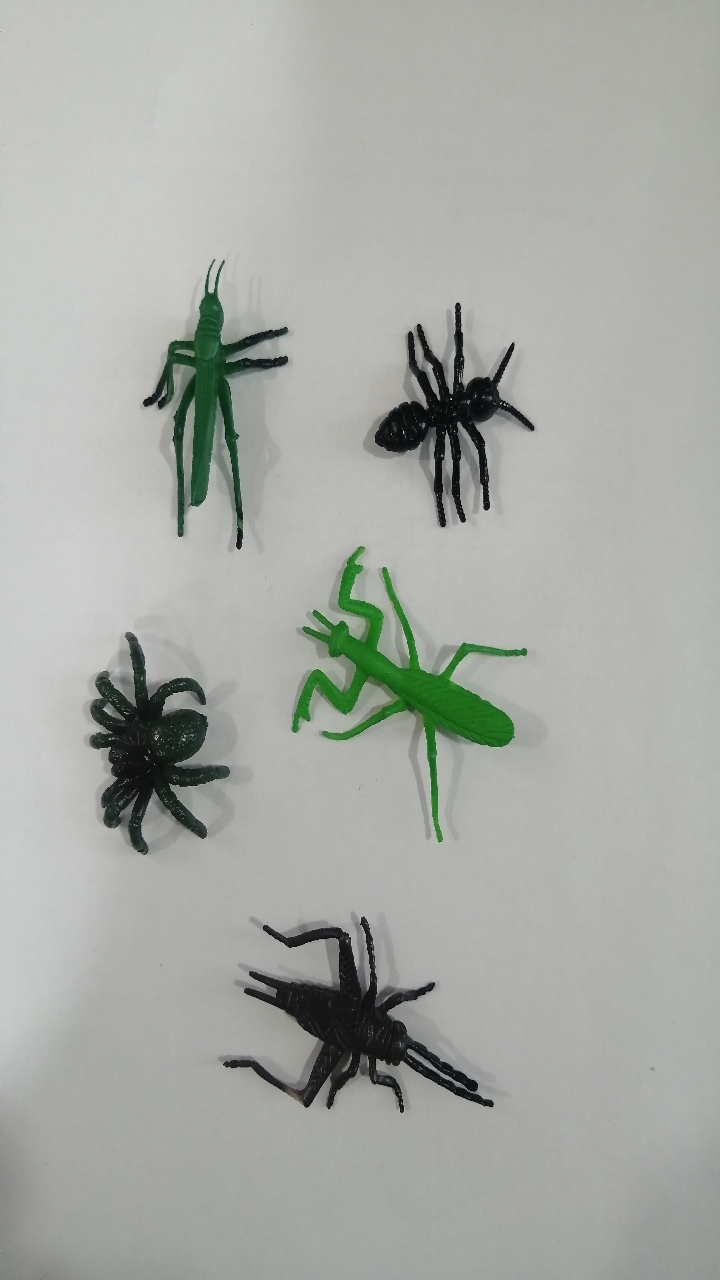intruso: (263, 532, 566, 874), (214, 877, 515, 1175), (334, 266, 549, 577), (100, 234, 288, 566), (49, 599, 237, 875)
